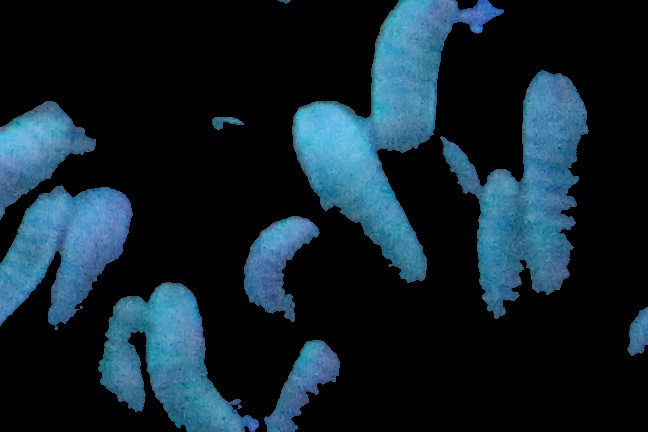larvae: (291, 102, 429, 286), (143, 281, 256, 432), (523, 71, 590, 297), (373, 1, 460, 153), (48, 189, 133, 329), (470, 170, 537, 320), (1, 184, 68, 332), (1, 100, 95, 203), (241, 213, 320, 321), (264, 342, 339, 432), (99, 295, 148, 416)
